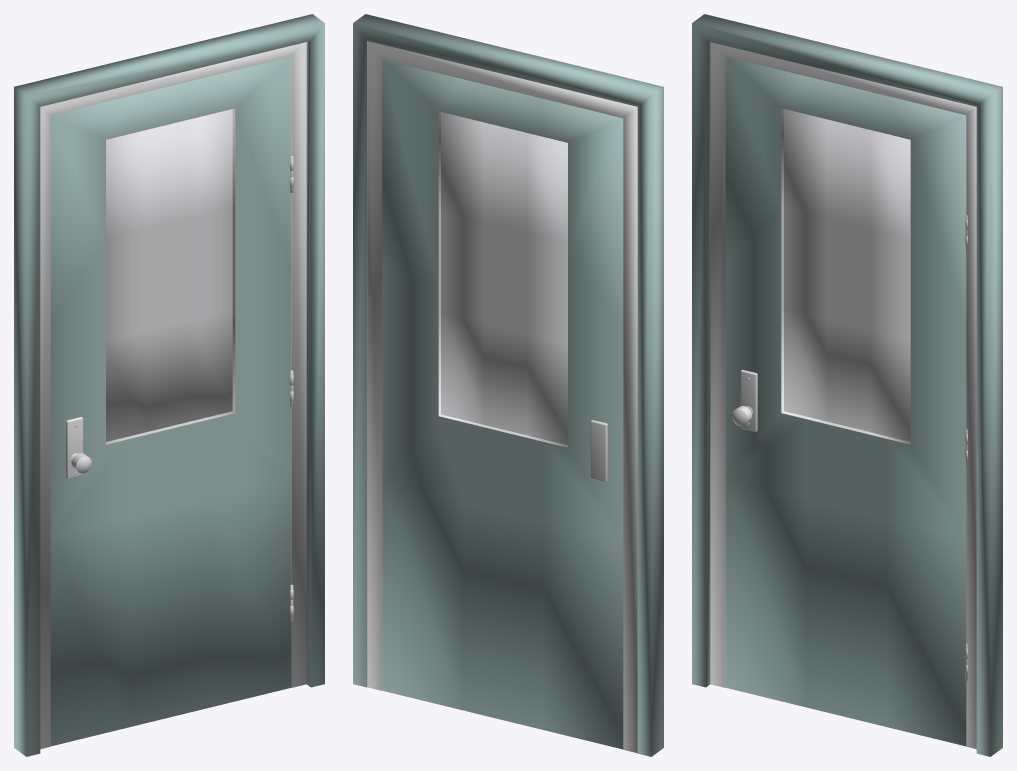
Rendered from Door2.fbx.
The picture shows the model from 3 angles, left to right: view 1: azimuth 30°, elevation 25°; view 2: azimuth 150°, elevation 25°; view 3: azimuth 330°, elevation 25°; orthographic projection.
Parts seen in each view (by area): view 1: Door_2_4, Glass, Outer_Frame_2, Frame_3, Cube_5, Door_Knob_Holder_2; view 2: Door_2_4, Glass, Outer_Frame_2, Frame_3, Cube_5, Door_Knob_Holder_2, Door_3_3; view 3: Door_2_4, Glass, Outer_Frame_2, Frame_3, Cube_5, Door_Knob_Holder_2, Door_3_3.
Part boxes in pixels (x1=…): Door_2_4: x1=50, y1=56, x2=291, y2=746; Glass: x1=106, y1=109, x2=232, y2=441; Outer_Frame_2: x1=14, y1=14, x2=324, y2=756; Frame_3: x1=40, y1=42, x2=306, y2=749; Cube_5: x1=106, y1=108, x2=235, y2=444; Door_Knob_Holder_2: x1=66, y1=417, x2=83, y2=479; Door_2_4: x1=382, y1=59, x2=623, y2=749; Glass: x1=441, y1=112, x2=567, y2=445; Outer_Frame_2: x1=353, y1=14, x2=663, y2=756; Frame_3: x1=367, y1=41, x2=637, y2=753; Cube_5: x1=438, y1=111, x2=567, y2=447; Door_Knob_Holder_2: x1=590, y1=420, x2=607, y2=482; Door_3_3: x1=382, y1=60, x2=382, y2=690; Door_2_4: x1=725, y1=56, x2=966, y2=746; Glass: x1=784, y1=109, x2=910, y2=441; Outer_Frame_2: x1=692, y1=14, x2=1002, y2=756; Frame_3: x1=710, y1=42, x2=976, y2=749; Cube_5: x1=781, y1=108, x2=910, y2=444; Door_Knob_Holder_2: x1=740, y1=369, x2=757, y2=431; Door_3_3: x1=725, y1=56, x2=725, y2=687.
Bounding box in the file's own units: 1.01 × 2.15 × 0.1154.
